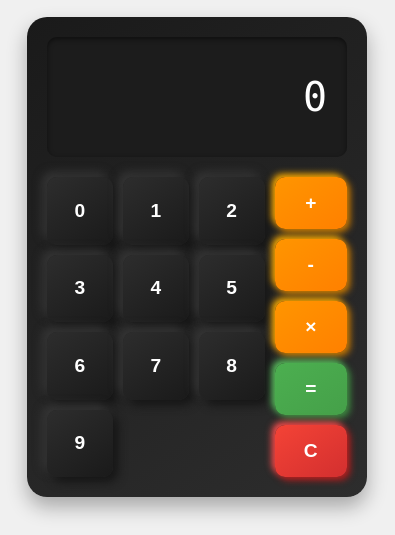
Scenario: App › performs subtraction correctly
This screenshot has width=395, height=535.
Click the button "5" at point(232, 288), box [199,254,264,322]
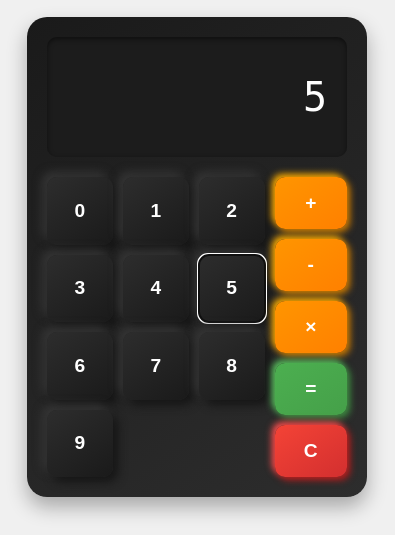
Click the button "-" at point(311, 265), box [274,239,347,291]
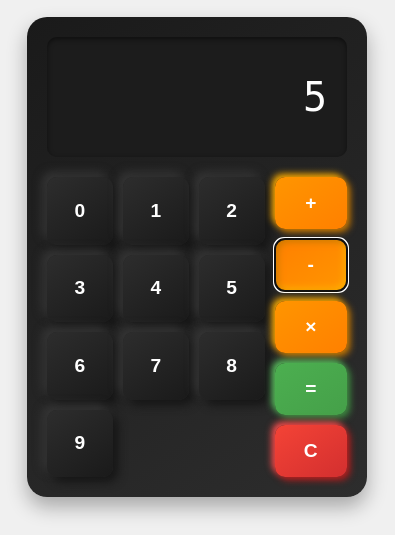
Click the button "3" at point(80, 288), box [47,254,113,322]
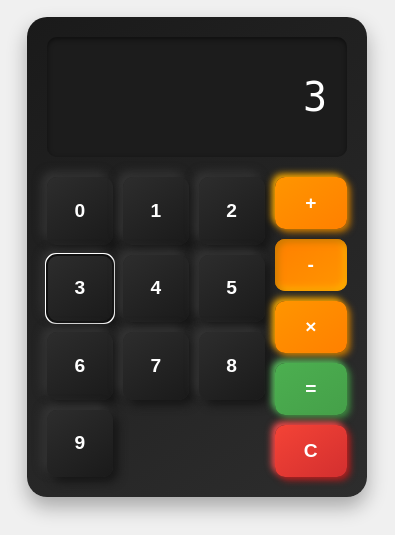
Click the button "=" at point(311, 389), box [274,363,347,415]
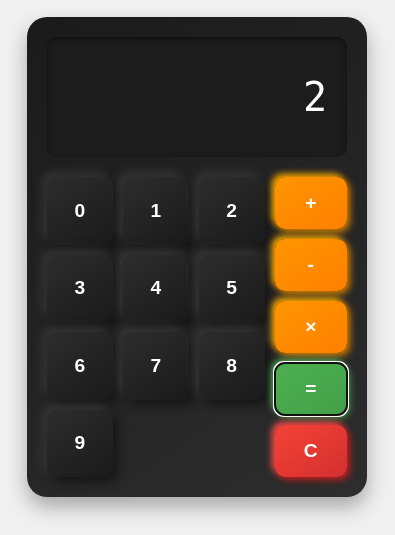
Expected: the text with test id "display" reads "2", [303,74,327,120]
